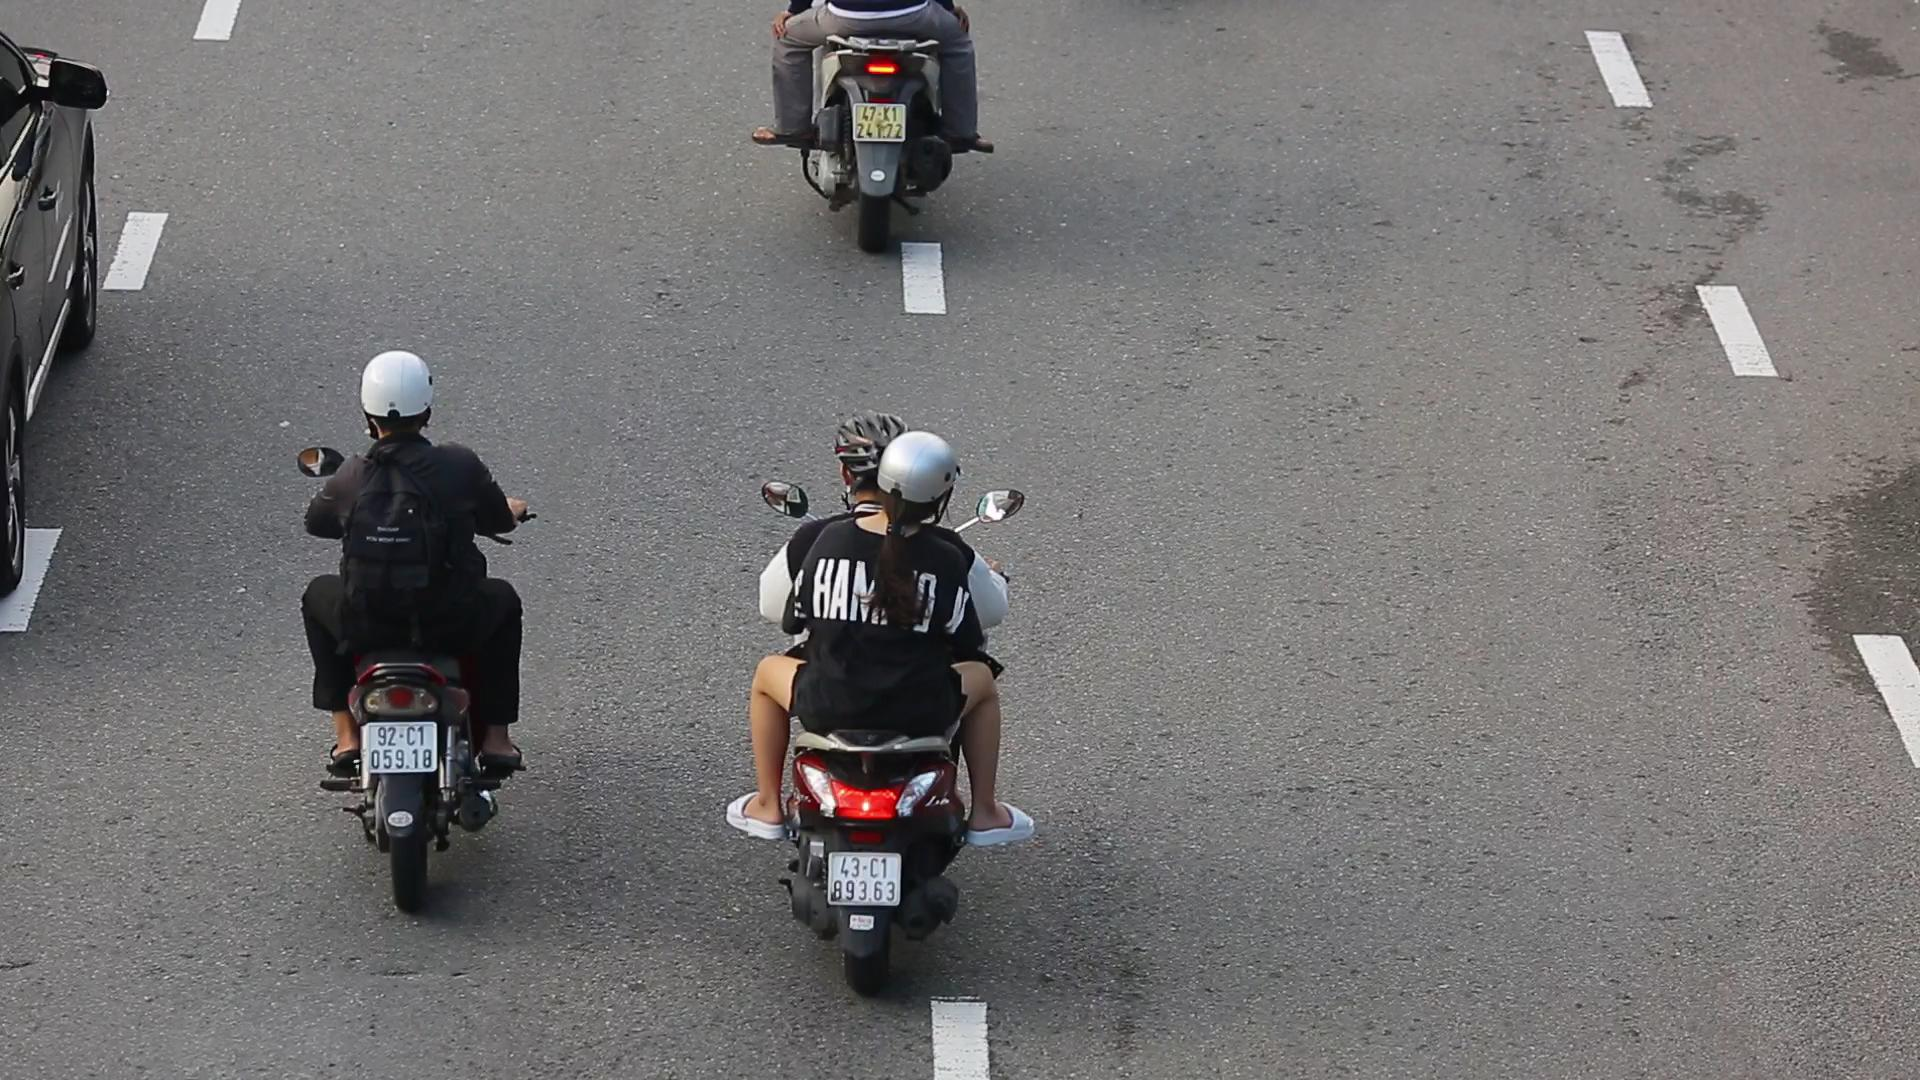motobike: (719, 410, 1039, 961), (282, 351, 535, 911)
